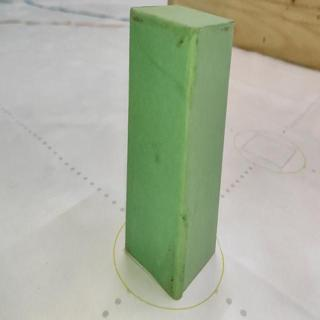greenbox: (127, 6, 231, 301)
